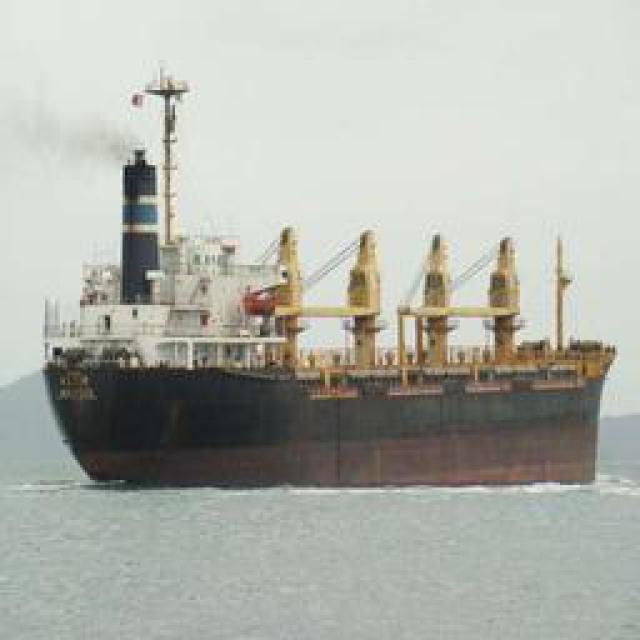Ship: (40, 209, 620, 484)
